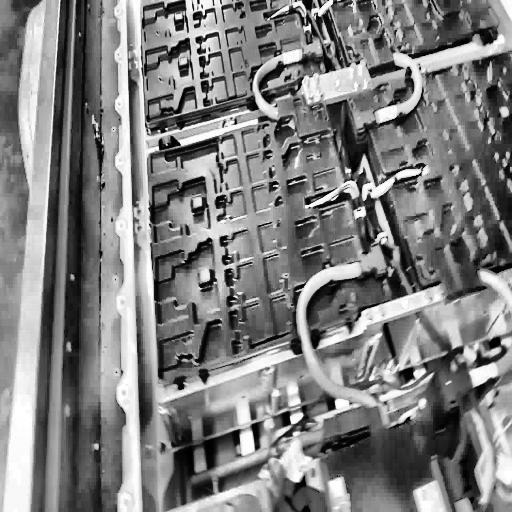high_volt_cable: (291, 242, 394, 433), (244, 32, 325, 136), (349, 41, 431, 138)
low_volt_cable: (300, 154, 435, 241)
